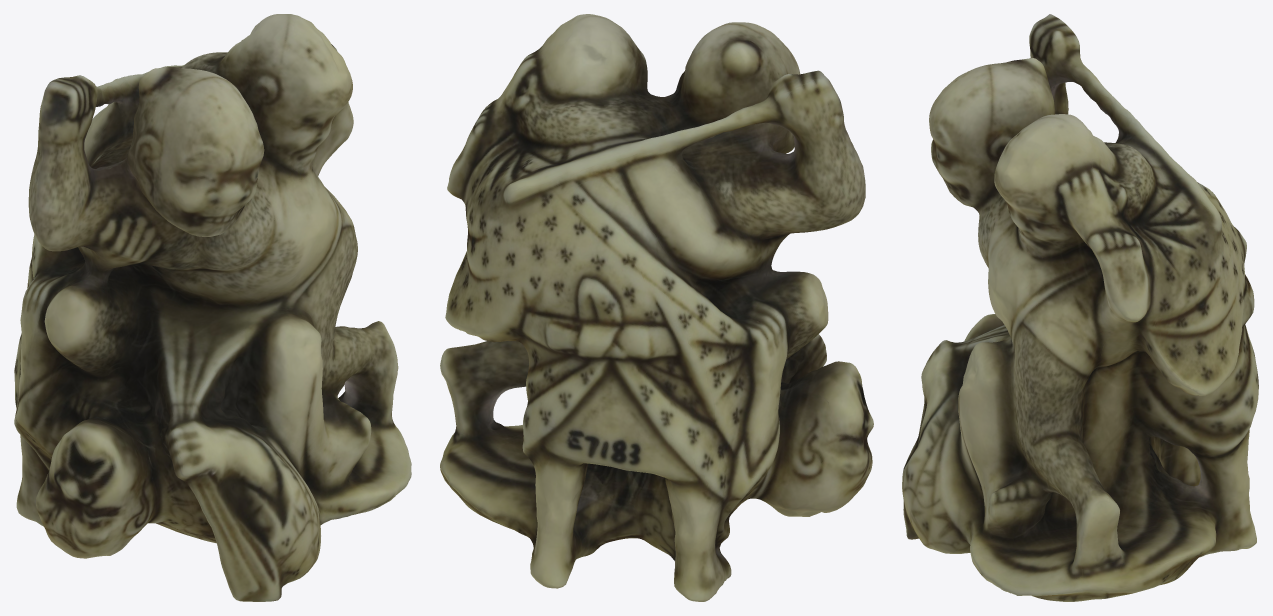
The model's file is japanese_netsuke.glb.
3 views of the same model, side by side, from view 1: azimuth 30°, elevation 25°; view 2: azimuth 150°, elevation 25°; view 3: azimuth 270°, elevation 25° (orthographic). The views are drawn at different scales.
Visible parts, largest first — view 1: Object_2; view 2: Object_2; view 3: Object_2.
Boxes of the visible parts, bbox=[...] form: Object_2: bbox=[14, 14, 411, 601]; Object_2: bbox=[440, 14, 873, 601]; Object_2: bbox=[902, 14, 1258, 601].
Bounding box in the file's own units: 0.4986 × 0.6128 × 0.4239.
Materials: 1 (1 with a texture image).
